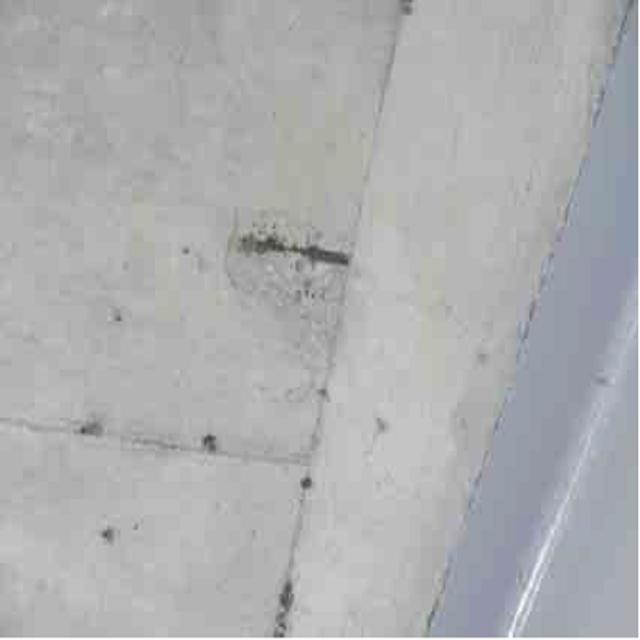spalling: (223, 180, 363, 330)
